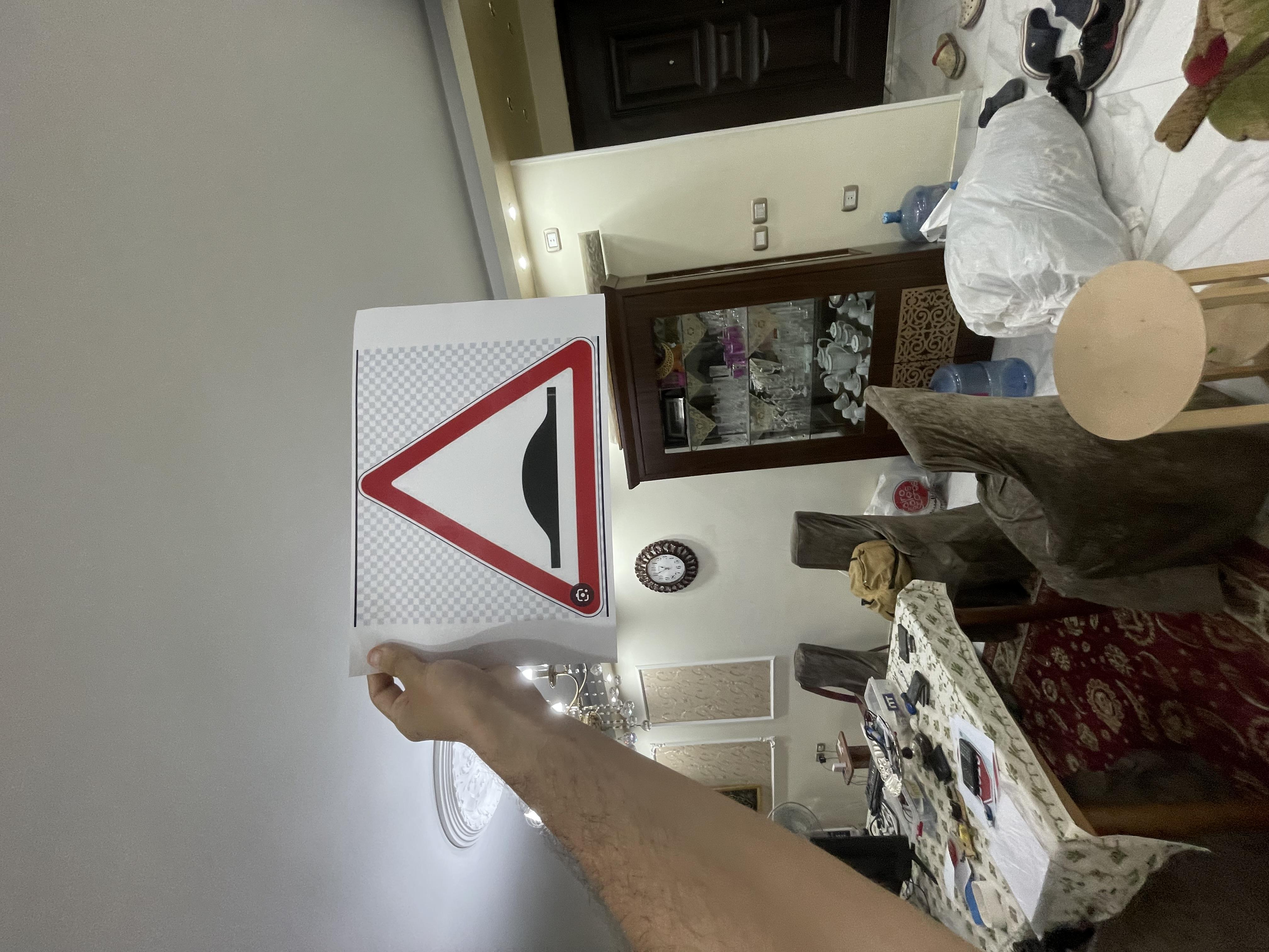Hump: (432, 265, 819, 462)
